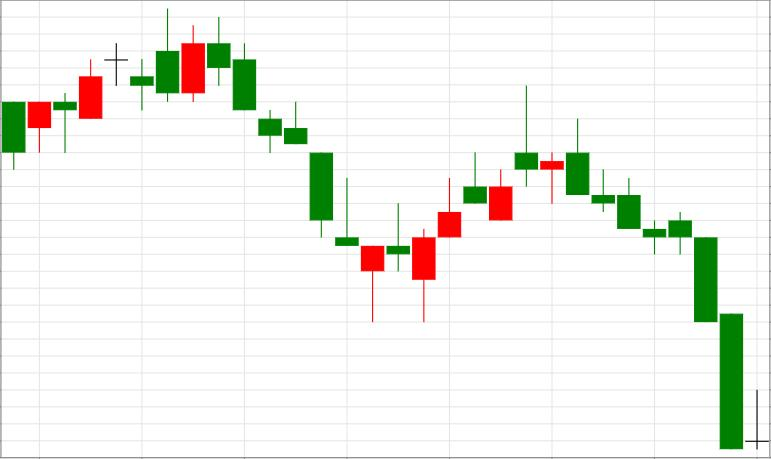hammer_rise: (208, 16, 384, 323)
